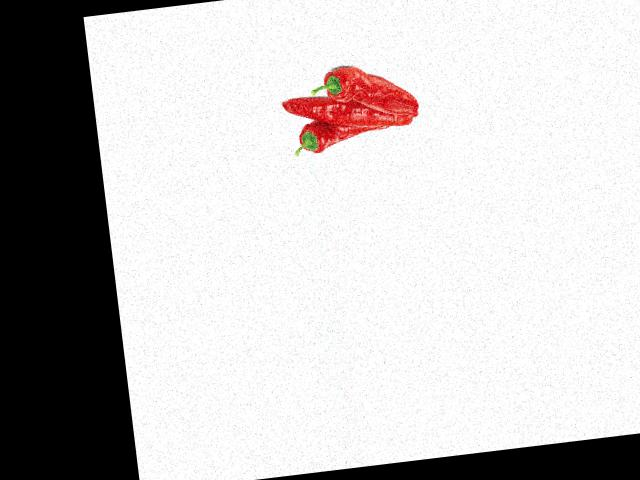bell_pepper: (305, 54, 419, 116)
